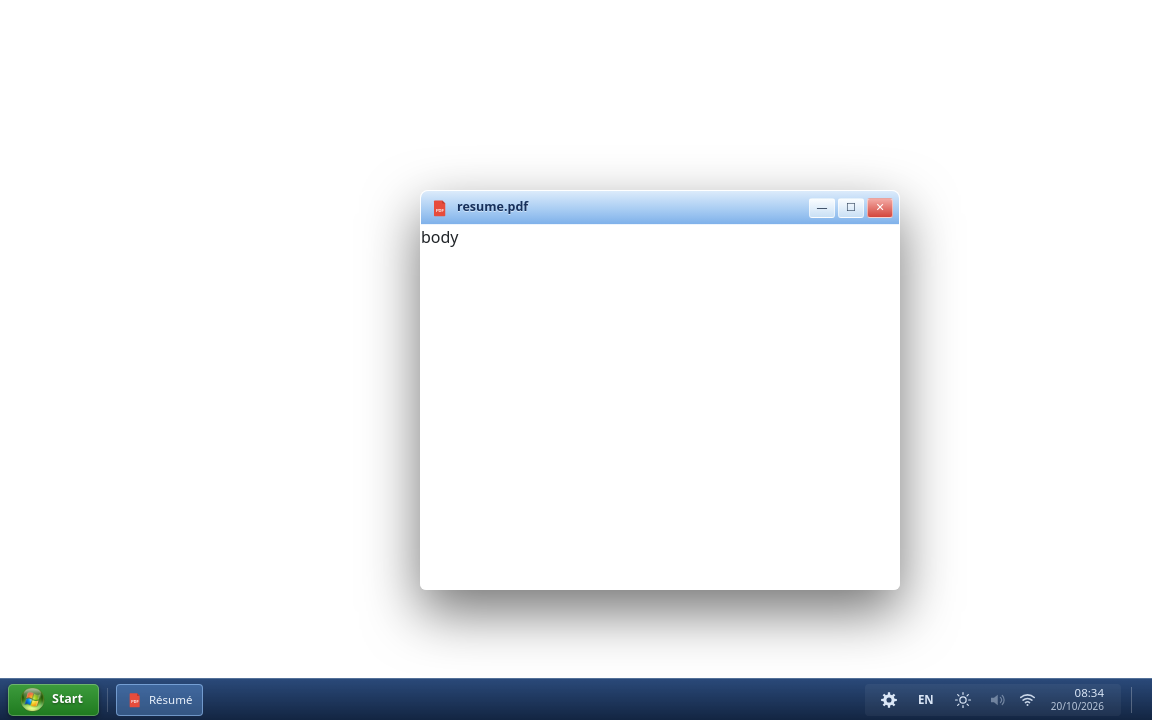
Test: Taskbar › show-desktop button minimizes all open windows but keeps their taskbar buttons
Expected: the dialog with test id "window-resume" is shown, 420,190 -> 900,590
Click the button named "show desktop".
click(1138, 700)  # box 1131,686 -> 1144,712
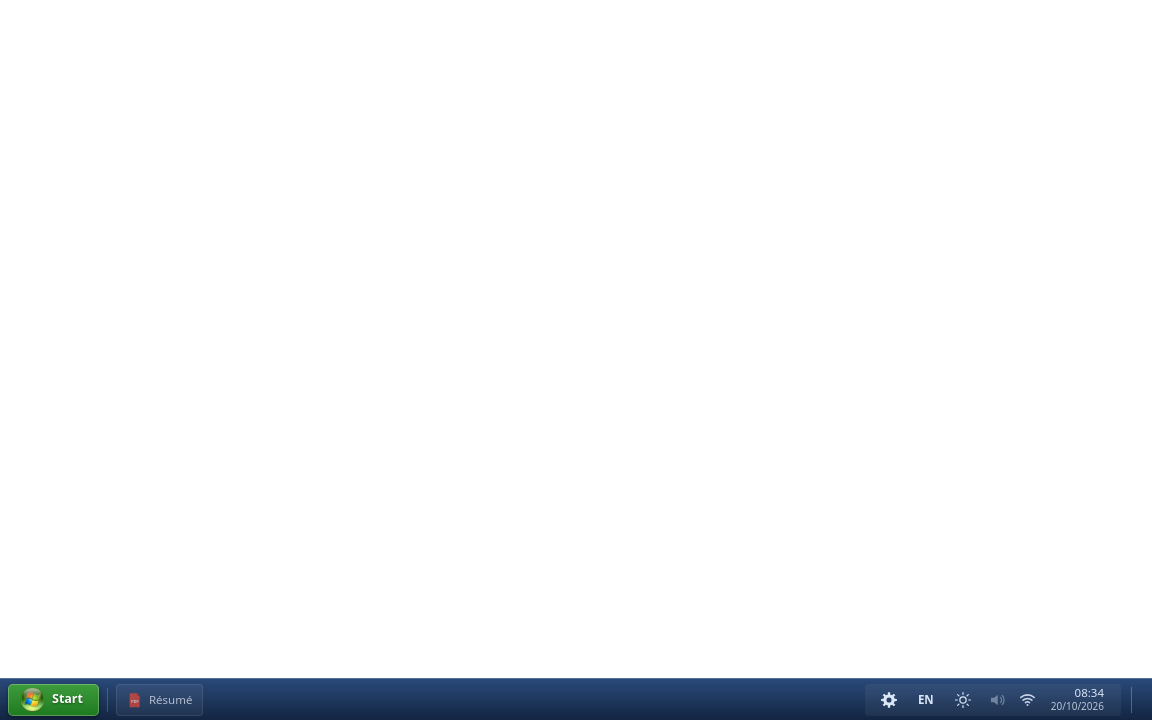
Expected: the text "Résumé" is shown, 149,691 -> 192,708
Result: the dialog with test id "window-resume" is gone
